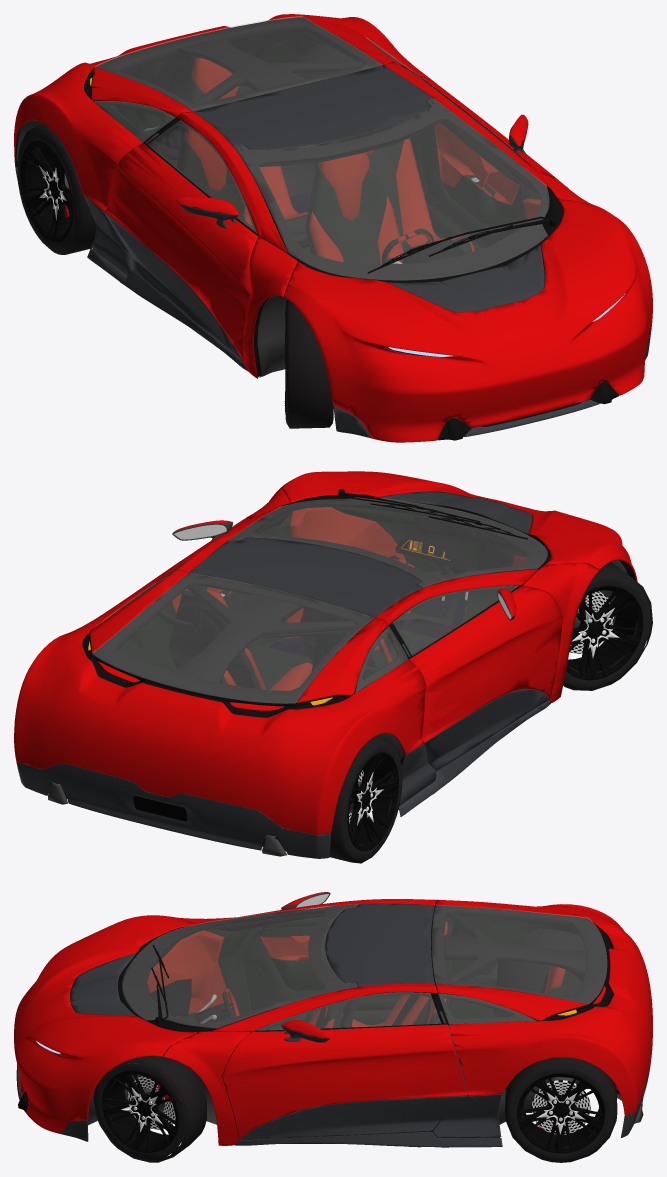
File: car.glb
3 renders of one model, top to bottom at view 1: azimuth 30°, elevation 25°; view 2: azimuth 150°, elevation 25°; view 3: azimuth 270°, elevation 25°, orthographic. The views are drawn at different scales.
Parts seen in each view (by area): view 1: BodyRearPanelsColor1, BodyWindshield, BodyWindshieldGasket, BodyRoofPanel, InteriorDashSides, InteriorDashMid, InteriorSeatsColor2, object 21, WheelFrontLRim, BodyUnderside, InteriorMid, InteriorSteeringDash; view 2: BodyRearPanelsColor1, BodyWindshield, BodyRoofPanel, BodyWindshieldGasket, InteriorDashMid, WheelFrontLRim, object 21, InteriorDashSides, InteriorSeatsColor2, InteriorFloormats, InteriorSteeringDash, BodyUnderside (+3 smaller); view 3: BodyRearPanelsColor1, BodyWindshield, BodyRoofPanel, BodyWindshieldGasket, object 21, WheelFrontLRim, InteriorDashMid, InteriorDashSides, InteriorMid, BodyUnderside, WheelFrontLBrakeDisc, InteriorSeatsColor2 (+1 smaller).
Boxes of the visible parts, bbox=[...] form: BodyRearPanelsColor1: bbox=[14, 14, 652, 442]; BodyWindshield: bbox=[94, 16, 549, 280]; BodyWindshieldGasket: bbox=[16, 17, 618, 440]; BodyRoofPanel: bbox=[15, 65, 651, 438]; InteriorDashSides: bbox=[185, 57, 540, 349]; InteriorDashMid: bbox=[15, 33, 526, 281]; InteriorSeatsColor2: bbox=[180, 78, 472, 264]; object 21: bbox=[17, 124, 333, 428]; WheelFrontLRim: bbox=[20, 140, 285, 414]; BodyUnderside: bbox=[16, 78, 467, 430]; InteriorMid: bbox=[93, 173, 557, 376]; InteriorSteeringDash: bbox=[404, 239, 465, 263]; BodyRearPanelsColor1: bbox=[14, 471, 637, 834]; BodyWindshield: bbox=[92, 497, 547, 703]; BodyRoofPanel: bbox=[16, 491, 551, 858]; BodyWindshieldGasket: bbox=[82, 489, 635, 753]; InteriorDashMid: bbox=[48, 503, 528, 851]; WheelFrontLRim: bbox=[347, 585, 643, 851]; object 21: bbox=[263, 503, 652, 863]; InteriorDashSides: bbox=[171, 506, 528, 690]; InteriorSeatsColor2: bbox=[246, 628, 437, 690]; InteriorFloormats: bbox=[269, 598, 467, 659]; InteriorSteeringDash: bbox=[395, 533, 462, 566]; BodyUnderside: bbox=[48, 560, 626, 856]; BodyRearPanelsColor1: bbox=[14, 892, 652, 1145]; BodyWindshield: bbox=[122, 904, 606, 1030]; BodyRoofPanel: bbox=[16, 892, 652, 1147]; BodyWindshieldGasket: bbox=[18, 901, 619, 1143]; object 21: bbox=[93, 1054, 617, 1162]; WheelFrontLRim: bbox=[102, 1062, 605, 1153]; InteriorDashMid: bbox=[118, 908, 641, 1105]; InteriorDashSides: bbox=[147, 921, 565, 1028]; InteriorMid: bbox=[205, 922, 499, 1143]; BodyUnderside: bbox=[39, 927, 643, 1125]; WheelFrontLBrakeDisc: bbox=[127, 1075, 590, 1134]; InteriorSeatsColor2: bbox=[304, 973, 560, 1028].
Bounding box in the file's own units: 2.54 × 1.15 × 4.36.
23 materials, 14 textured.
